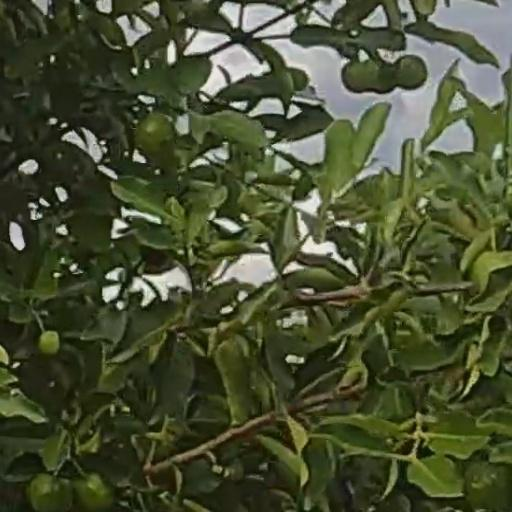acerola_verde: (30, 475, 71, 510), (140, 115, 176, 154), (76, 475, 112, 510), (395, 55, 426, 90), (344, 63, 382, 91)
